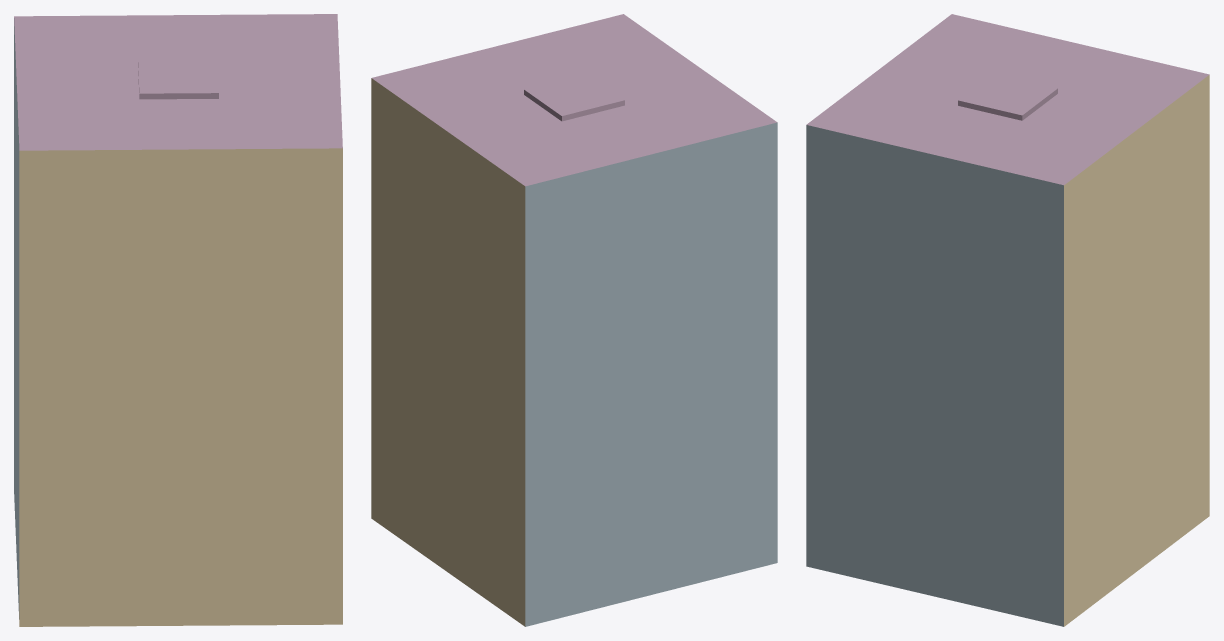
File: doitt-131170__lod_1.glb
The picture shows the model from 3 angles, left to right: view 1: azimuth 30°, elevation 25°; view 2: azimuth 150°, elevation 25°; view 3: azimuth 270°, elevation 25°; orthographic projection. The views are drawn at different scales.
Bounding box in the file's own units: 82.55 × 100 × 82.16.
